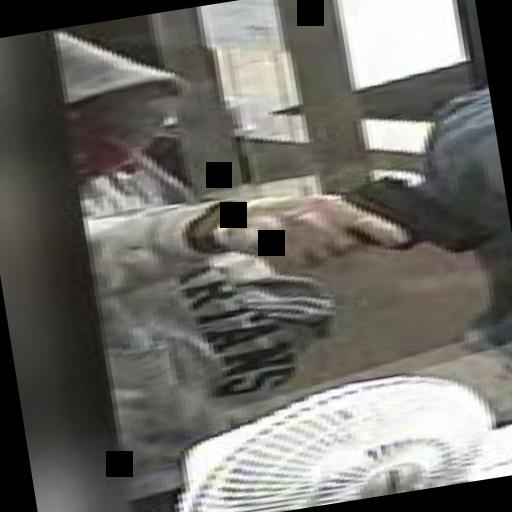Handgun: (249, 161, 486, 282)
